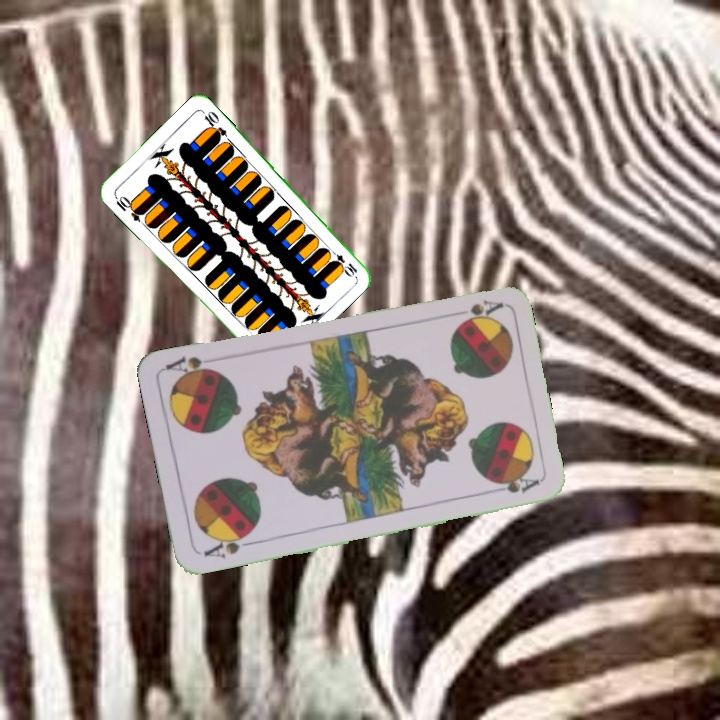E10: (325, 245, 360, 279), (110, 191, 146, 224)
SA: (200, 528, 256, 561), (446, 296, 505, 324)
